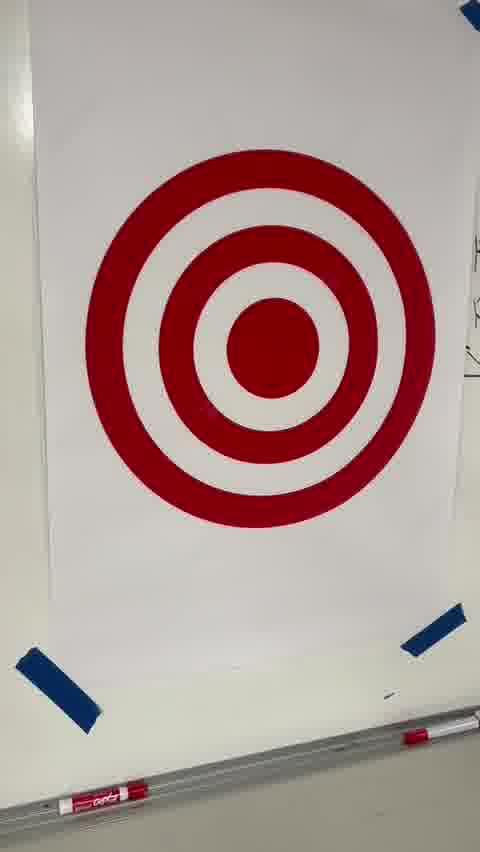target_red: (85, 147, 438, 527)
